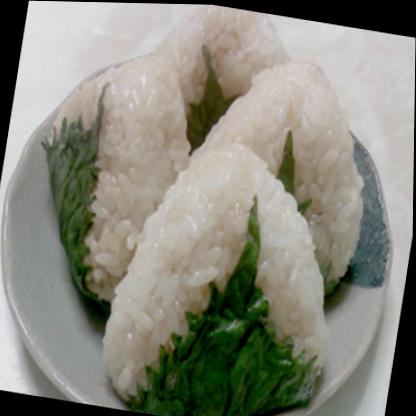rice roll: (104, 142, 345, 415), (39, 34, 197, 326), (205, 46, 382, 246), (141, 2, 290, 148)
